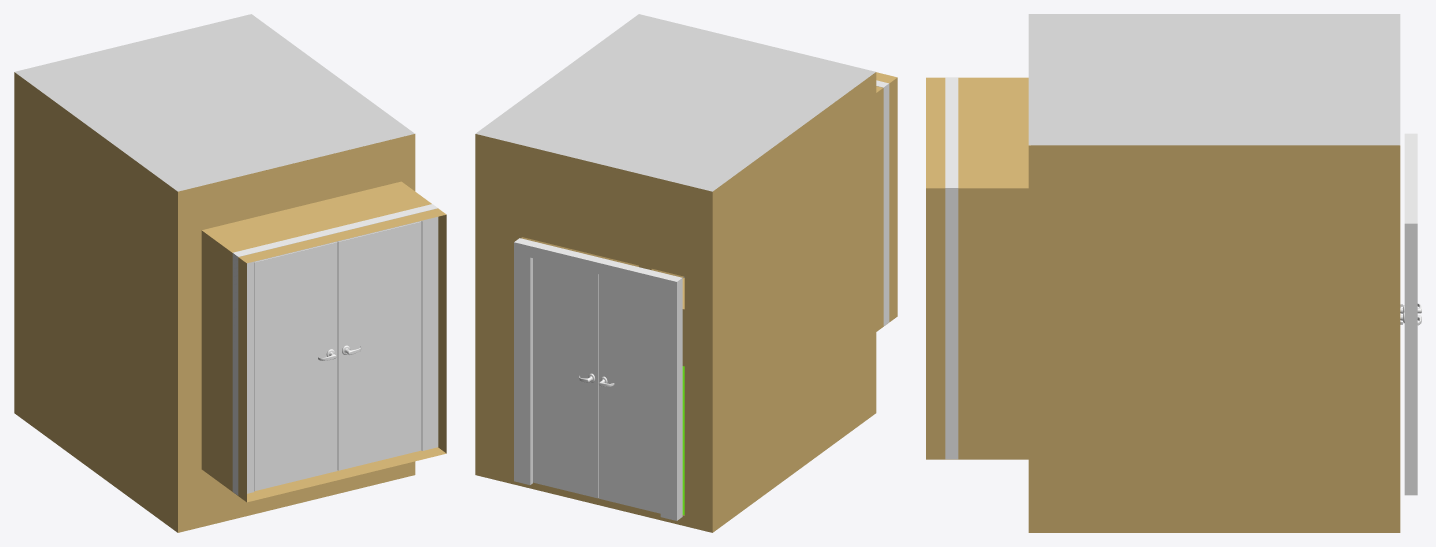
Rendered from Vestibule.glb.
3 renders of one model, left to right at view 1: azimuth 30°, elevation 25°; view 2: azimuth 150°, elevation 25°; view 3: azimuth 270°, elevation 25°, orthographic. The views are drawn at different scales.
Parts seen in each view (by area): view 1: Room_Vestibule, Vestibule_Front_Door_Left, Vestibule_Front_Door_Right, Vestibule_Front_Door_Frame; view 2: Room_Vestibule, Vestibule_Inner_Door_Left, Vestibule_Inner_Door_Right, Vestibule_Inner_Door_Frame, Vestibule_Front_Door_Frame; view 3: Room_Vestibule, Vestibule_Front_Door_Frame, Vestibule_Inner_Door_Frame.
Part boxes in pixels (x1,y1,x2,y2): Room_Vestibule: (14,14,446,532); Vestibule_Front_Door_Left: (337,221,421,470); Vestibule_Front_Door_Right: (254,242,337,491); Vestibule_Front_Door_Frame: (232,204,438,495); Room_Vestibule: (475,14,897,532); Vestibule_Inner_Door_Left: (533,258,598,498); Vestibule_Inner_Door_Right: (598,274,660,513); Vestibule_Inner_Door_Frame: (514,238,682,520); Vestibule_Front_Door_Frame: (683,80,889,325); Room_Vestibule: (926,14,1400,532); Vestibule_Front_Door_Frame: (945,77,958,459); Vestibule_Inner_Door_Frame: (1404,133,1417,495).
Bounding box in the file's own units: 2.18 × 3 × 3.48.
